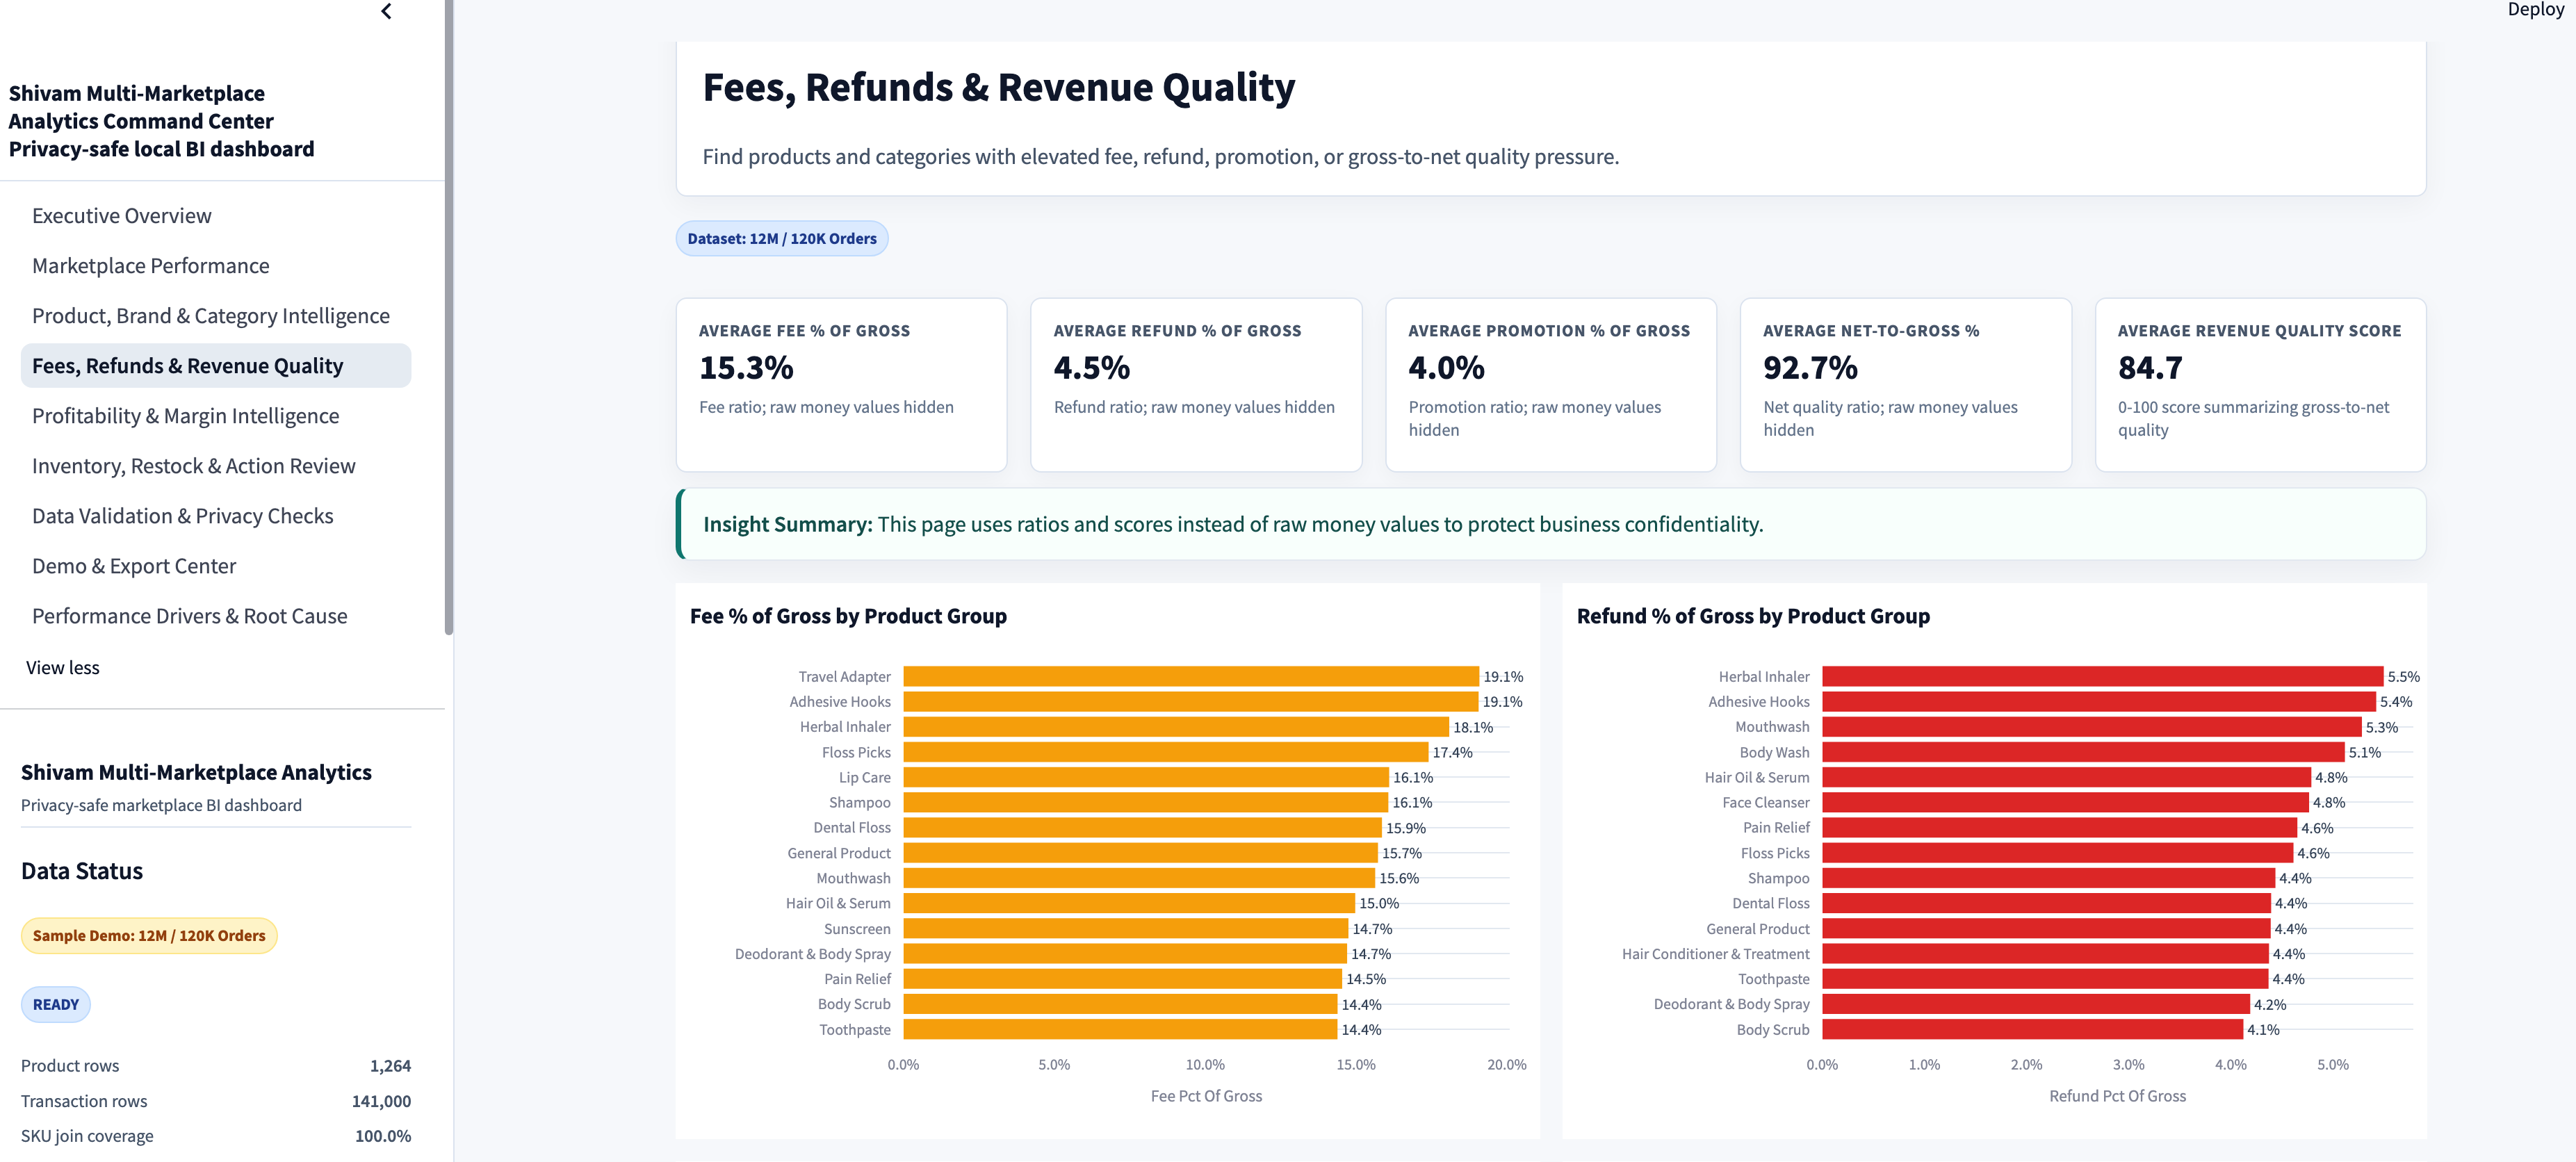

The page's visual inventory and layout, read from the dashboard file:
{"tool":"powerbi","page":{"name":"Fees, Refunds & Promotions","canvas":[1280,720],"ordinal":3},"visuals":[{"type":"textbox","box":[0,0,527.3,68.5],"z":0},{"type":"slicer","fields":{"Values":["DimMarketplace.marketplace"]},"box":[527.3,0,237.7,68.5],"z":1000},{"type":"slicer","fields":{"Values":["DimProduct.category_group"]},"box":[765,0,249.5,68.5],"z":2000},{"type":"slicer","fields":{"Values":["DimProduct.brand_group"]},"box":[1020.3,0,259.2,68.5],"z":3000},{"type":"cardVisual","fields":{"Data":["Measures (2).Fee %"]},"box":[0,68.5,264.1,147.7],"z":4000},{"type":"cardVisual","fields":{"Data":["Measures (2).Refund %"]},"box":[264.1,68.5,244.6,147.7],"z":5000},{"type":"cardVisual","fields":{"Data":["Measures (2).Promotion %"]},"box":[508.7,68.5,256.3,147.7],"z":6000},{"type":"cardVisual","fields":{"Data":["Measures (2).Net-to-Gross %"]},"box":[800.2,68.5,249.5,147.7],"z":7000},{"type":"cardVisual","fields":{"Data":["Measures (2).Revenue Quality Score"]},"box":[1049.7,68.5,227.9,147.7],"z":8000},{"type":"clusteredBarChart","title":"Fee % by Product Group","fields":{"Category":["DimProduct.product_group"],"Y":["Measures (2).Fee %"]},"box":[0,216.2,638.8,251.4],"z":10000},{"type":"clusteredColumnChart","title":"Fee, Refund & Promotion % by Marketplace","fields":{"Category":["DimMarketplace.marketplace"],"Y":["Measures (2).Fee %","Measures (2).Refund %","Measures (2).Promotion %"]},"box":[0,477.4,638.8,242.6],"z":11000},{"type":"scatterChart","title":"Refund % vs Net-to-Gross %","fields":{"X":["Measures (2).Refund %"],"Y":["Measures (2).Net-to-Gross %"],"Category":["DimProduct.product_group"]},"box":[638.8,477.4,640.8,242.6],"z":12000},{"type":"clusteredBarChart","title":"Refund % by Product Group","fields":{"Category":["DimProduct.product_group"],"Y":["Measures (2).Refund %"]},"box":[658.4,216.2,619.2,251.4],"z":13000}]}

Visuals, with their boxes on the page's 1280x720 design canvas (x1, y1, x2, y2). These are canvas units, not pixel positions in the 2576x1162 screenshot, which may show the page scaled, cropped or inside an application window:
textbox: Rect(0, 0, 527, 68)
slicer - DimMarketplace.marketplace: Rect(527, 0, 765, 68)
slicer - DimProduct.category_group: Rect(765, 0, 1014, 68)
slicer - DimProduct.brand_group: Rect(1020, 0, 1280, 68)
cardVisual - Measures (2).Fee %: Rect(0, 68, 264, 216)
cardVisual - Measures (2).Refund %: Rect(264, 68, 509, 216)
cardVisual - Measures (2).Promotion %: Rect(509, 68, 765, 216)
cardVisual - Measures (2).Net-to-Gross %: Rect(800, 68, 1050, 216)
cardVisual - Measures (2).Revenue Quality Score: Rect(1050, 68, 1278, 216)
"Fee % by Product Group" clusteredBarChart: Rect(0, 216, 639, 468)
"Fee, Refund & Promotion % by Marketplace" clusteredColumnChart: Rect(0, 477, 639, 720)
"Refund % vs Net-to-Gross %" scatterChart: Rect(639, 477, 1280, 720)
"Refund % by Product Group" clusteredBarChart: Rect(658, 216, 1278, 468)
